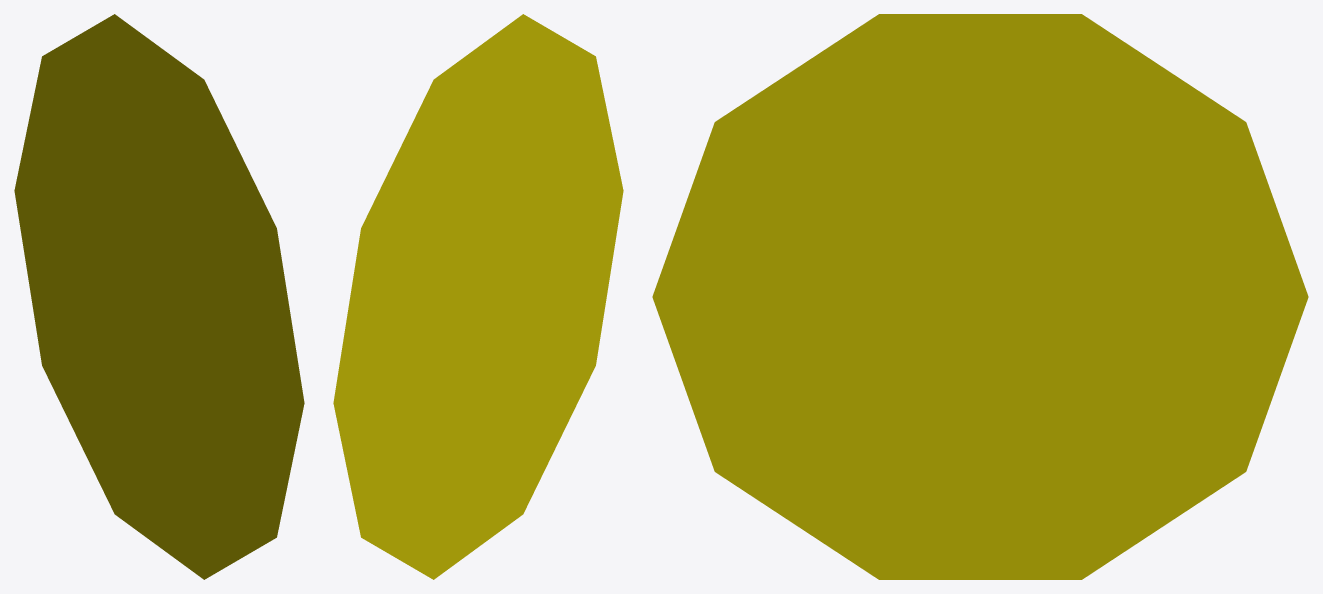
File: Missile_Flame_Circle.fbx
3 views of the same model, side by side, from view 1: azimuth 30°, elevation 25°; view 2: azimuth 150°, elevation 25°; view 3: azimuth 270°, elevation 25° (orthographic). The views are drawn at different scales.
Parts seen in each view (by area): view 1: Missile_Flame_Circle; view 2: Missile_Flame_Circle; view 3: Missile_Flame_Circle.
Boxes of the visible parts, bbox=[...] form: Missile_Flame_Circle: bbox=[14, 14, 304, 579]; Missile_Flame_Circle: bbox=[333, 14, 623, 579]; Missile_Flame_Circle: bbox=[652, 14, 1308, 579].
Size of the model in its own units: 0 by 25.27 by 26.56.
